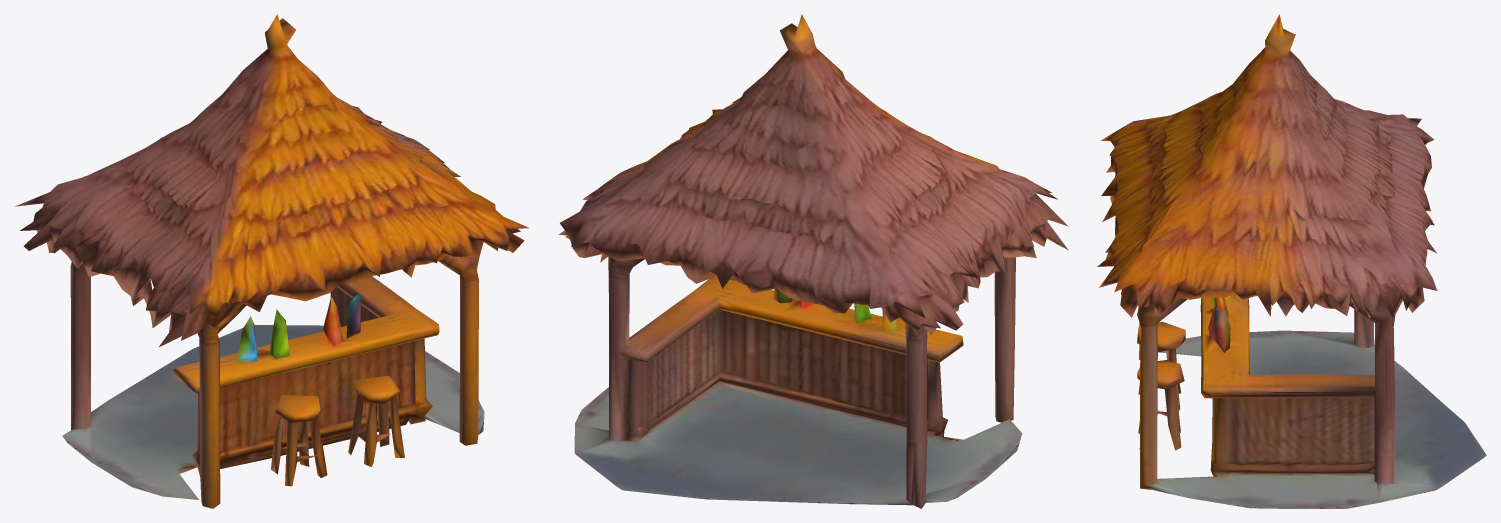
File: hut.glb
3 views of the same model, side by side, from view 1: azimuth 30°, elevation 25°; view 2: azimuth 150°, elevation 25°; view 3: azimuth 270°, elevation 25° (orthographic). The views are drawn at different scales.
Parts seen in each view (by area): view 1: tripo_node_35f4dba9-b71f-4577-acee-51ce0bd62570; view 2: tripo_node_35f4dba9-b71f-4577-acee-51ce0bd62570; view 3: tripo_node_35f4dba9-b71f-4577-acee-51ce0bd62570.
Boxes of the visible parts, x1,y1,x2,y2 form: tripo_node_35f4dba9-b71f-4577-acee-51ce0bd62570: (15, 14, 529, 508); tripo_node_35f4dba9-b71f-4577-acee-51ce0bd62570: (558, 14, 1068, 508); tripo_node_35f4dba9-b71f-4577-acee-51ce0bd62570: (1097, 14, 1486, 508).
Size of the model in its own units: 0.972 by 0.9906 by 0.8411.
1 material, 1 textured.
